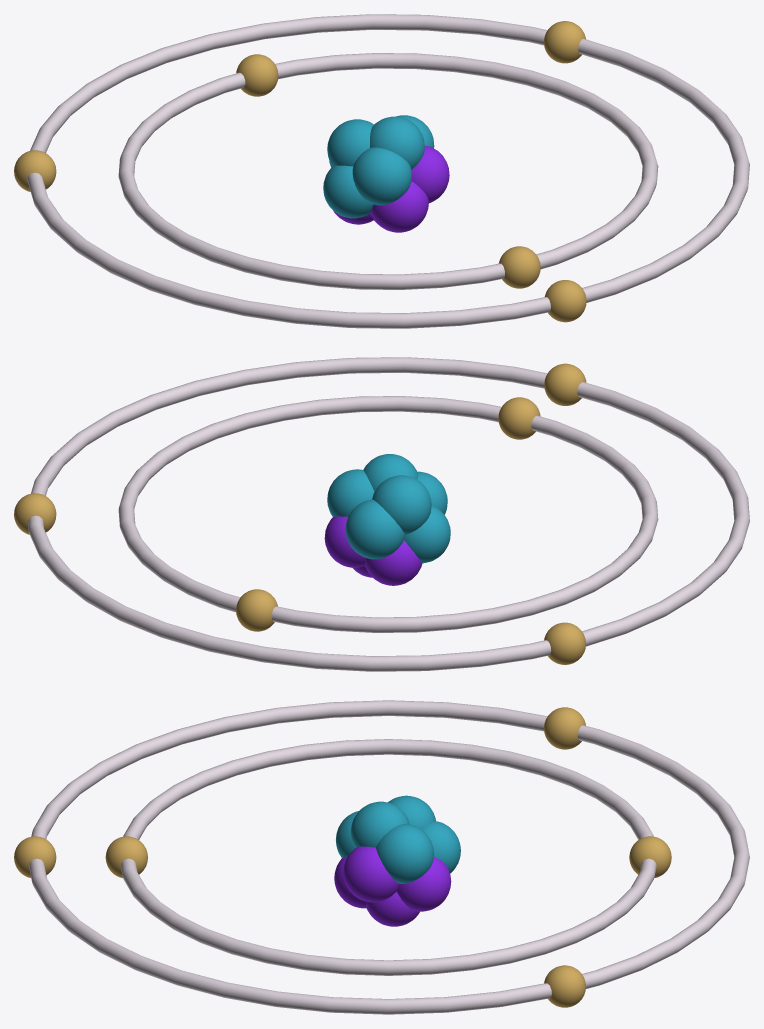
File: boro.glb
3 renders of one model, top to bottom at view 1: azimuth 30°, elevation 25°; view 2: azimuth 150°, elevation 25°; view 3: azimuth 270°, elevation 25°, orthographic.
Visible parts, largest first — view 1: Orbita_2, Orbita_1, Nucleo_Completo, Eletron_1, Eletron_C2_1, Eletron_C2_2, Eletron_2, Eletron_C3; view 2: Orbita_2, Orbita_1, Nucleo_Completo, Eletron_2, Eletron_C3, Eletron_1, Eletron_C2_1, Eletron_C2_2; view 3: Orbita_2, Orbita_1, Nucleo_Completo, Eletron_C2_2, Eletron_C3, Eletron_2, Eletron_C2_1, Eletron_1.
Boxes of the visible parts, <box> form: Orbita_2: <box>27,14,749,328</box>; Orbita_1: <box>118,53,658,289</box>; Nucleo_Completo: <box>323,115,449,232</box>; Eletron_1: <box>498,246,540,288</box>; Eletron_C2_1: <box>544,280,586,322</box>; Eletron_C2_2: <box>544,21,585,63</box>; Eletron_2: <box>236,54,278,96</box>; Eletron_C3: <box>14,150,56,191</box>; Orbita_2: <box>28,357,749,671</box>; Orbita_1: <box>118,396,658,632</box>; Nucleo_Completo: <box>324,454,450,585</box>; Eletron_2: <box>236,589,277,631</box>; Eletron_C3: <box>544,622,585,664</box>; Eletron_1: <box>498,397,540,439</box>; Eletron_C2_1: <box>544,363,586,405</box>; Eletron_C2_2: <box>14,493,56,534</box>; Orbita_2: <box>29,700,749,1014</box>; Orbita_1: <box>120,739,656,975</box>; Nucleo_Completo: <box>334,795,460,926</box>; Eletron_C2_2: <box>544,965,585,1007</box>; Eletron_C3: <box>544,707,585,749</box>; Eletron_2: <box>629,836,671,877</box>; Eletron_C2_1: <box>14,836,56,877</box>; Eletron_1: <box>105,836,147,877</box>.
Size of the model in its own units: 2.76 by 0.4864 by 2.81.
